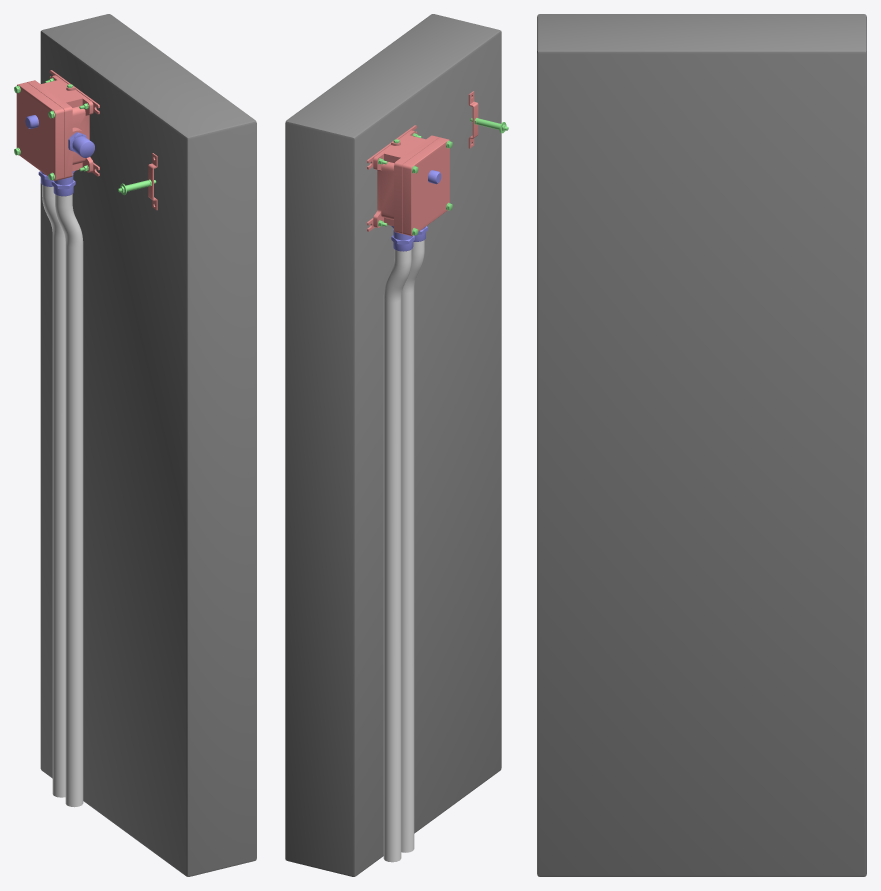
Rendered from SM_Zazemlenie_001.gltf.
The picture shows the model from 3 angles, left to right: view 1: azimuth 30°, elevation 25°; view 2: azimuth 150°, elevation 25°; view 3: azimuth 270°, elevation 25°; orthographic projection. The views are drawn at different scales.
Visible parts, largest first — view 1: SM_Zazemlenie_001; view 2: SM_Zazemlenie_001; view 3: SM_Zazemlenie_001.
Part boxes in pixels (x1,y1,x2,y2): SM_Zazemlenie_001: [14, 14, 256, 876]; SM_Zazemlenie_001: [285, 14, 508, 876]; SM_Zazemlenie_001: [537, 14, 866, 876].
Size of the model in its own units: 0.2112 by 1.26 by 0.4572.
